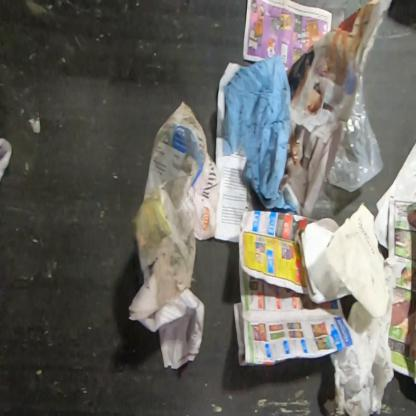cardboard: (142, 99, 222, 241), (300, 218, 353, 304)
soft_plastic: (326, 72, 386, 193), (0, 136, 13, 183)
